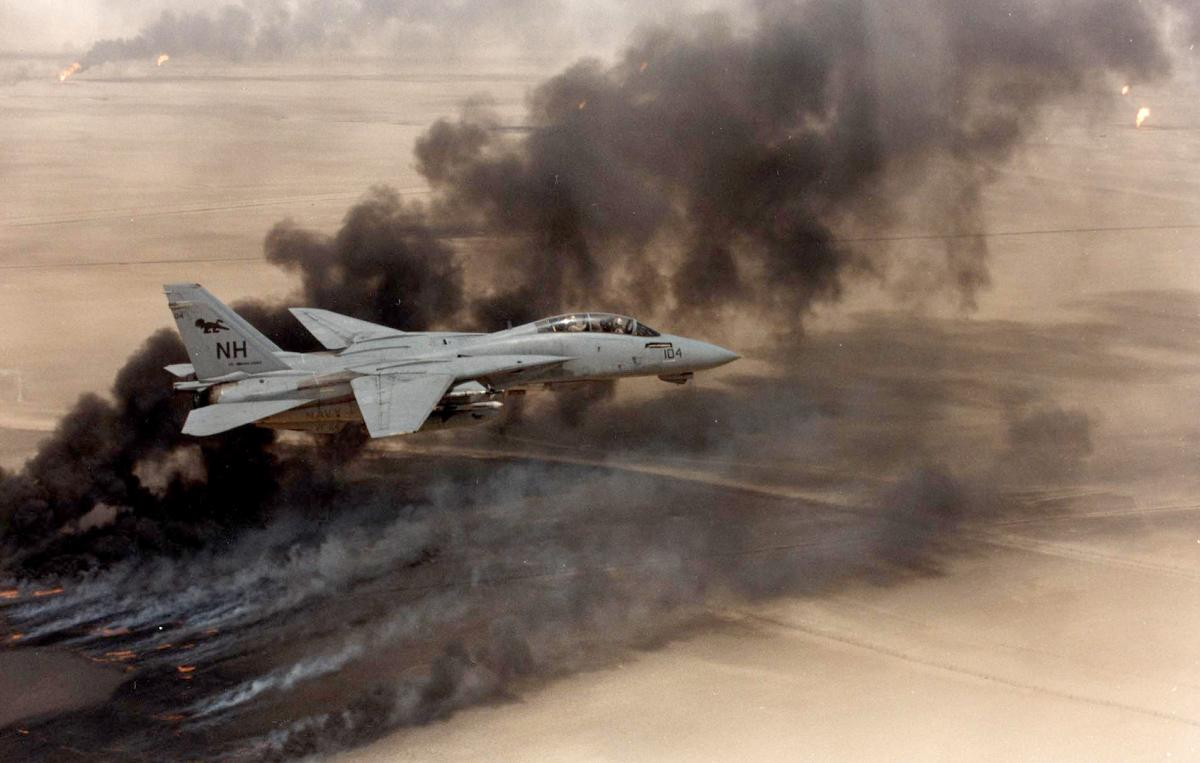F14: (160, 283, 745, 439)
